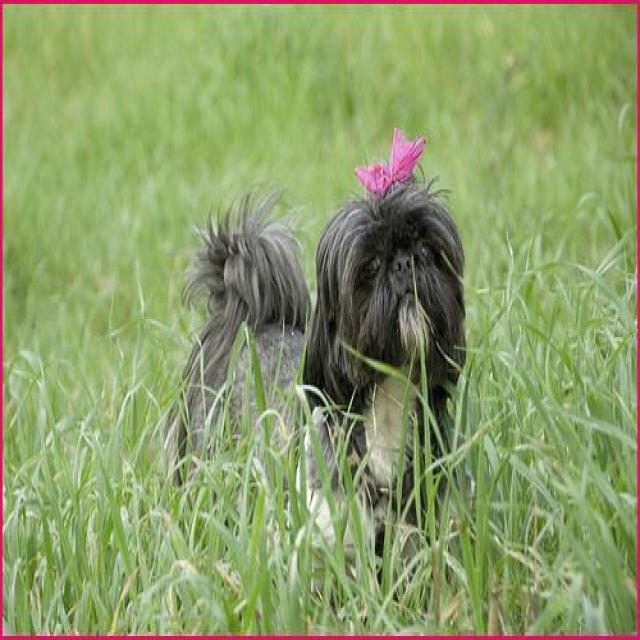shih_tzu: (165, 126, 469, 560)
